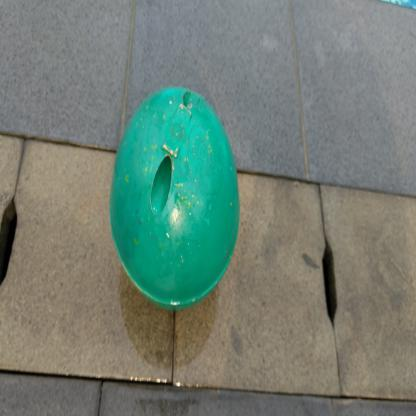green_buoy: (103, 76, 248, 322)
